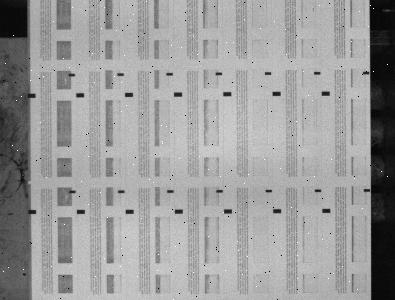backgroundclutter: (23, 273, 26, 276)
qblock: (174, 209, 183, 214), (125, 209, 134, 214), (28, 209, 37, 214), (27, 93, 36, 98), (174, 92, 183, 97), (322, 208, 331, 213), (272, 91, 281, 96), (77, 209, 85, 214), (224, 209, 232, 214), (125, 92, 133, 97), (322, 91, 330, 96), (223, 92, 232, 96), (273, 209, 281, 213), (76, 93, 84, 97)
smallqblock: (166, 72, 173, 76), (68, 73, 75, 77), (216, 189, 223, 193), (69, 190, 76, 193), (364, 189, 371, 192), (167, 190, 174, 193), (118, 190, 125, 193), (265, 72, 272, 75), (363, 71, 370, 74), (265, 189, 272, 192), (314, 72, 321, 75), (117, 73, 124, 76), (315, 189, 321, 192), (216, 72, 222, 75)
